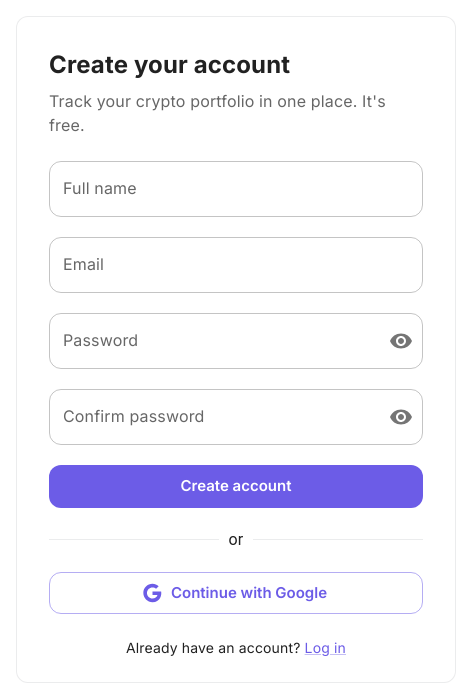
Test: SignupPage › checks that the passwords match
Type "Prasad" into the field labelled "Full name". click: (236, 189)
box: [49,161,423,217]
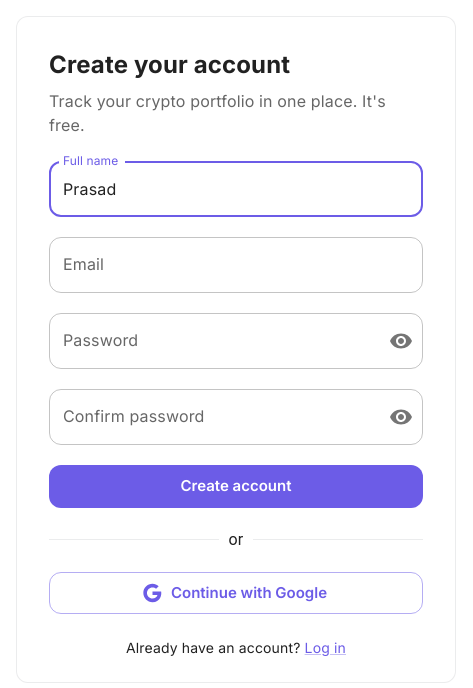
Type "prasad@example.com" into the field labelled "Email". click: (236, 265)
box: [49,237,423,293]
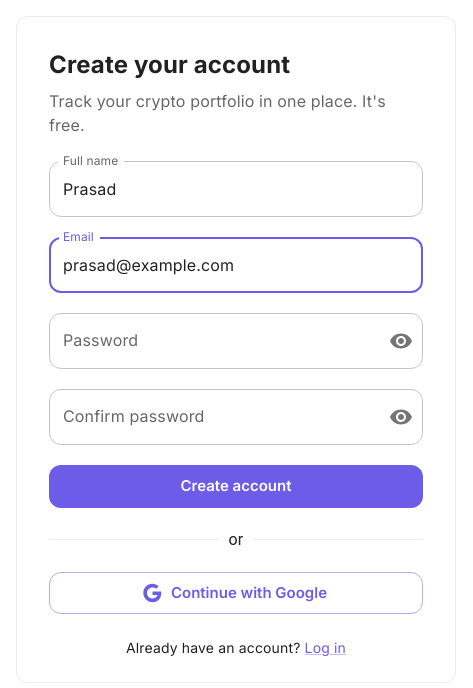
Type "secret123" into the password field labelled "Password". click: (211, 341)
box: [49,313,373,369]
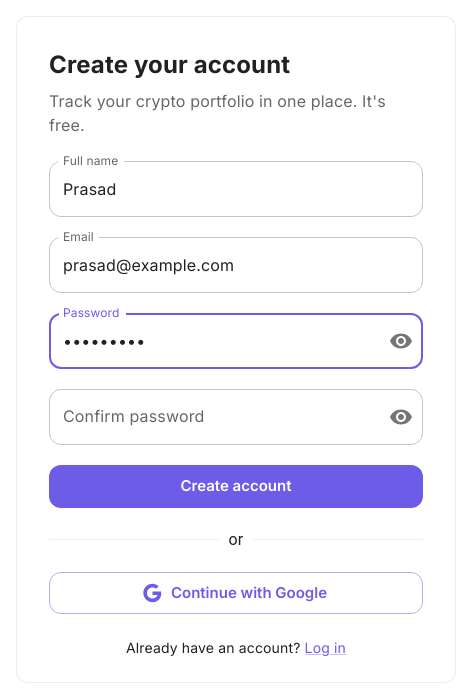
Type "secret124" into the password field labelled "Confirm password". click: (211, 417)
box: [49,389,373,445]
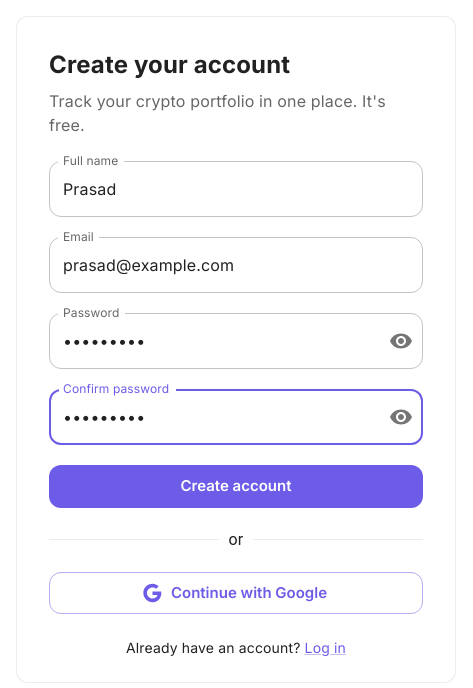
Click the button "Create account". click: (236, 487)
box: [49,465,423,508]
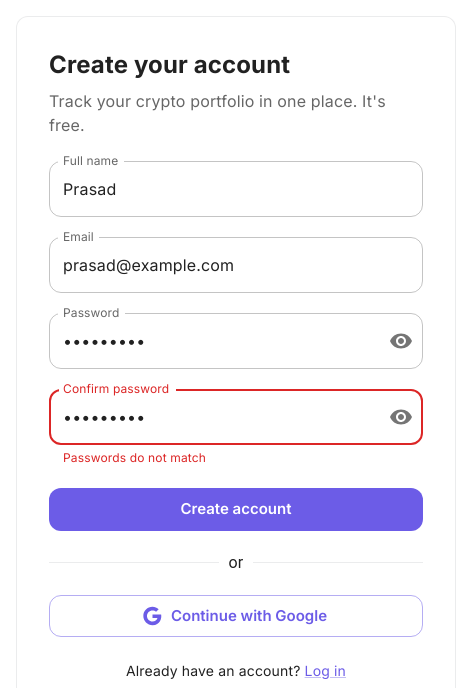
Expected: the text "Passwords do not match" is shown, [63,450,206,465]
